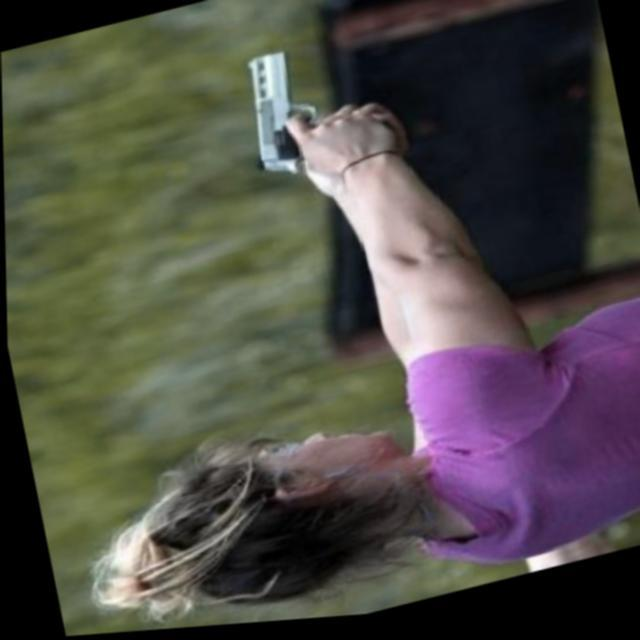weapon: (230, 43, 332, 194)
